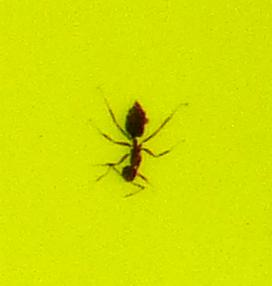Hymenoptera: (100, 100, 172, 186)
